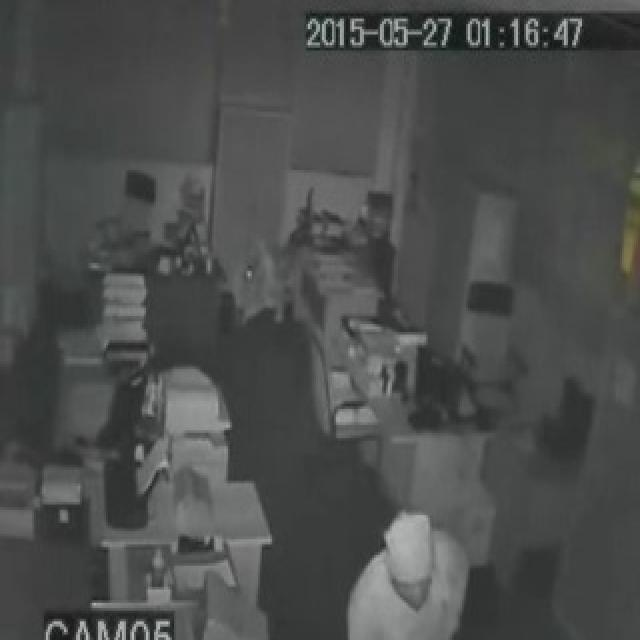thief: (353, 509, 463, 634), (242, 232, 308, 348)
